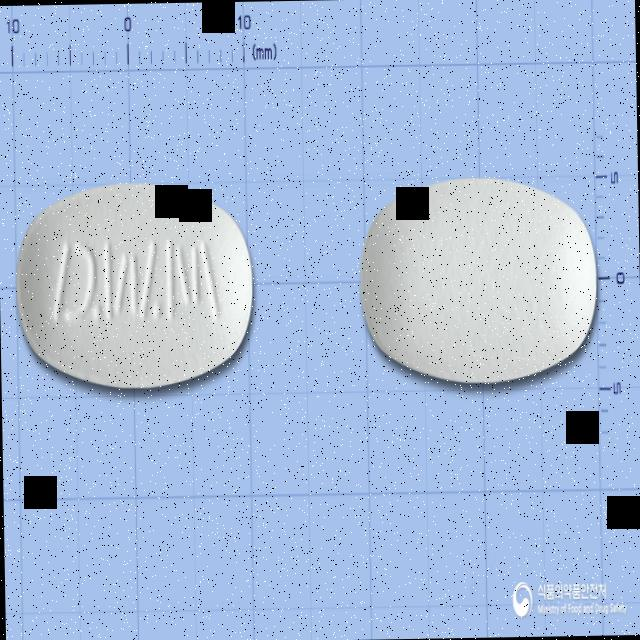Moxicle: (16, 179, 256, 392)
